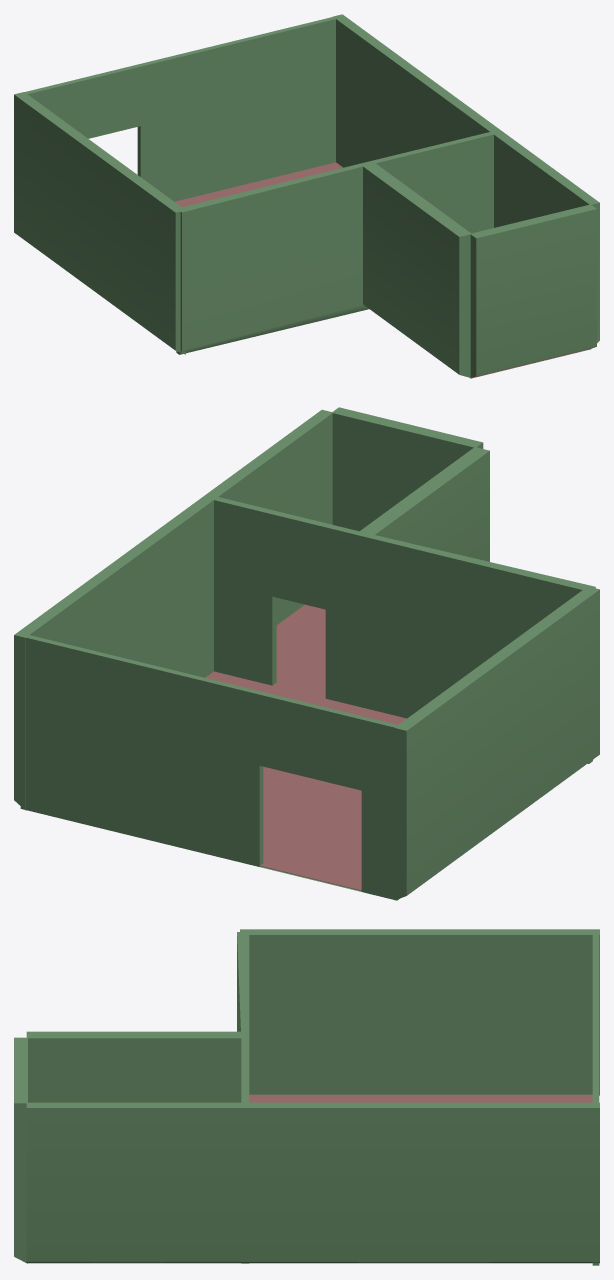
Rendered from RoomBase.fbx.
The picture shows the model from 3 angles, top to bottom: view 1: azimuth 30°, elevation 25°; view 2: azimuth 150°, elevation 25°; view 3: azimuth 270°, elevation 25°; orthographic projection. The views are drawn at different scales.
Visible parts, largest first — view 1: Wall_04, Wall_05, Wall_07, Wall_02, Wall_01, Wall_06, Wall_03, Floor_D; view 2: Wall_05, Wall_04, Wall_07, Wall_06, Floor_D, Wall_02, Wall_03, Wall_01, Floor_Lockerroom; view 3: Wall_06, Wall_07, Wall_03, Wall_01, Floor_D, Wall_02, Wall_04, Wall_05.
Boxes of the visible parts, x1=… form: Wall_04: x1=176, y1=132, x2=493, y2=354; Wall_05: x1=25, y1=17, x2=335, y2=201; Wall_07: x1=14, y1=92, x2=185, y2=354; Wall_02: x1=470, y1=204, x2=596, y2=377; Wall_01: x1=361, y1=162, x2=471, y2=377; Wall_06: x1=333, y1=14, x2=500, y2=227; Wall_03: x1=494, y1=130, x2=599, y2=342; Floor_D: x1=174, y1=162, x2=342, y2=206; Wall_05: x1=20, y1=635, x2=399, y2=900; Wall_04: x1=214, y1=497, x2=595, y2=763; Wall_07: x1=394, y1=586, x2=599, y2=900; Wall_06: x1=14, y1=496, x2=215, y2=810; Floor_D: x1=205, y1=671, x2=406, y2=890; Wall_02: x1=331, y1=407, x2=483, y2=531; Wall_03: x1=204, y1=409, x2=332, y2=624; Wall_01: x1=357, y1=447, x2=489, y2=561; Floor_Lockerroom: x1=275, y1=604, x2=325, y2=695; Wall_06: x1=240, y1=1102, x2=599, y2=1263; Wall_07: x1=240, y1=929, x2=599, y2=1095; Wall_03: x1=26, y1=1102, x2=245, y2=1263; Wall_01: x1=26, y1=1031, x2=245, y2=1102; Floor_D: x1=249, y1=1094, x2=592, y2=1102; Wall_02: x1=14, y1=1037, x2=27, y2=1263; Wall_04: x1=237, y1=932, x2=249, y2=1263; Wall_05: x1=592, y1=935, x2=599, y2=1265.
Bounding box in the file's own units: 953 × 400 × 1323.
